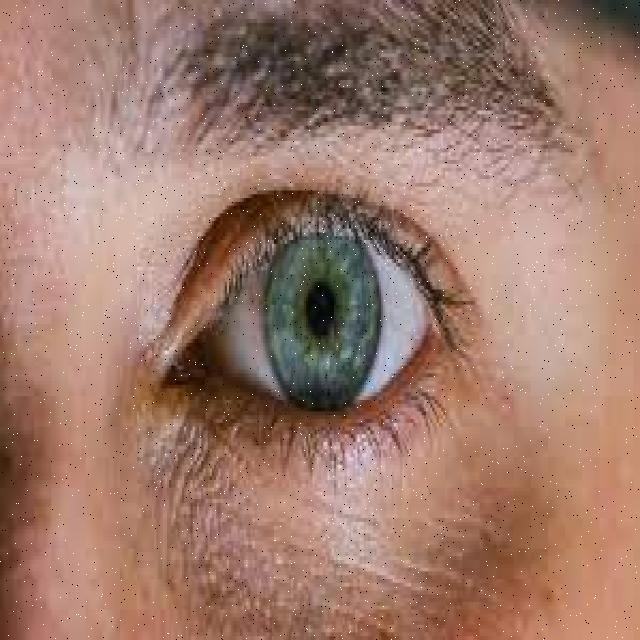Normal: (127, 171, 508, 463)
